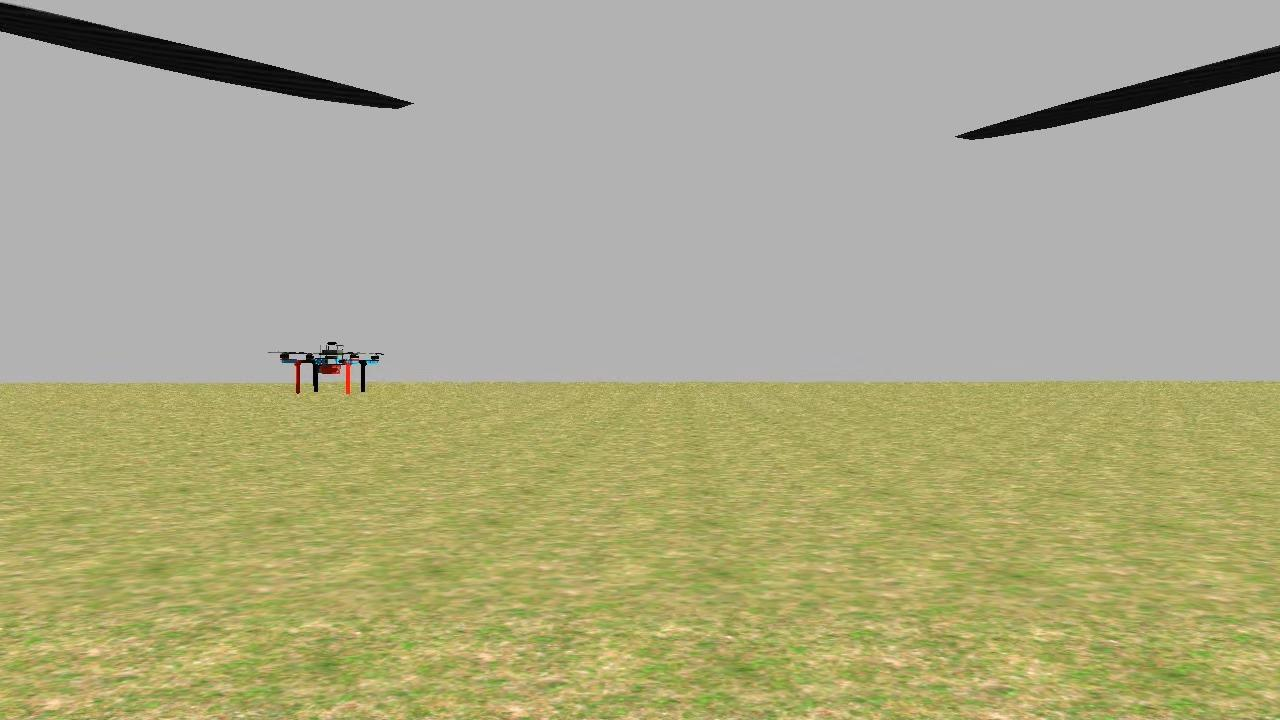UAV: (266, 336, 388, 398)
